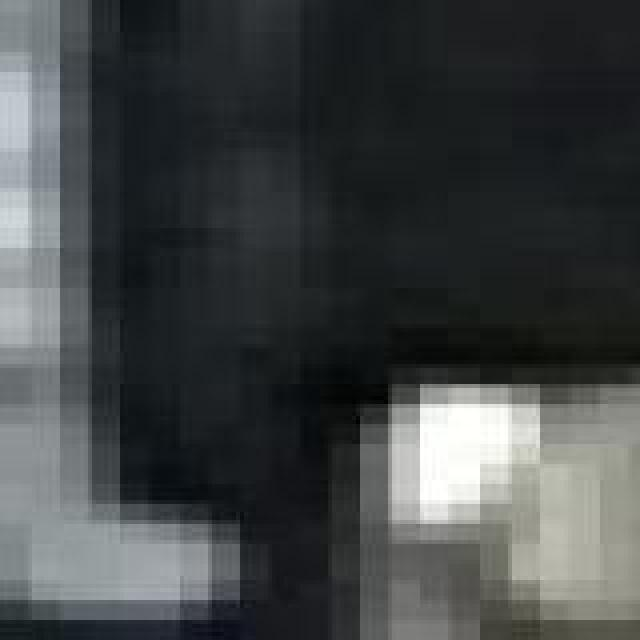diode: (88, 0, 640, 624)
